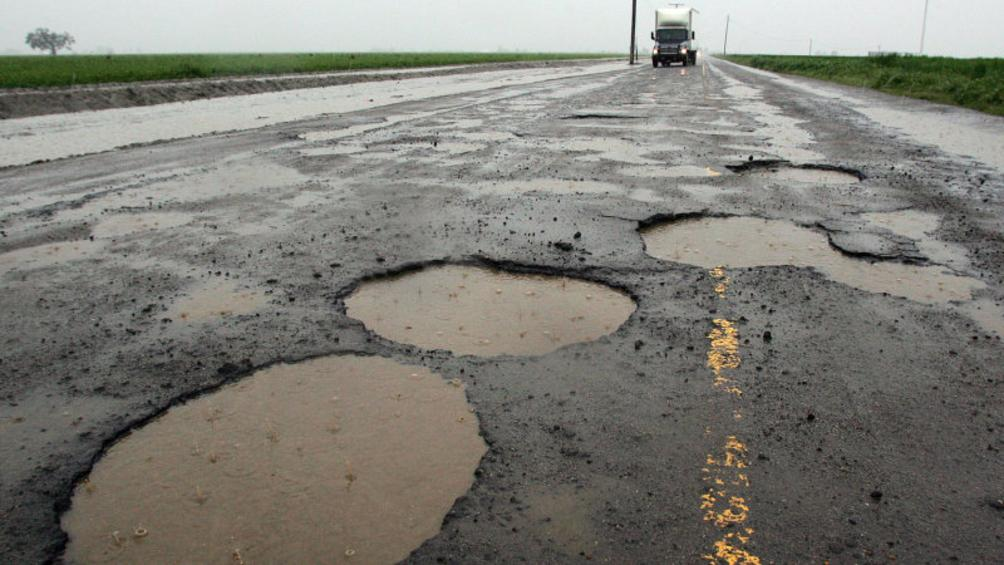Pothole: (6, 342, 531, 565), (601, 172, 1004, 330), (301, 217, 652, 387), (142, 231, 295, 347), (717, 139, 883, 201), (306, 119, 475, 170), (547, 94, 649, 144)
